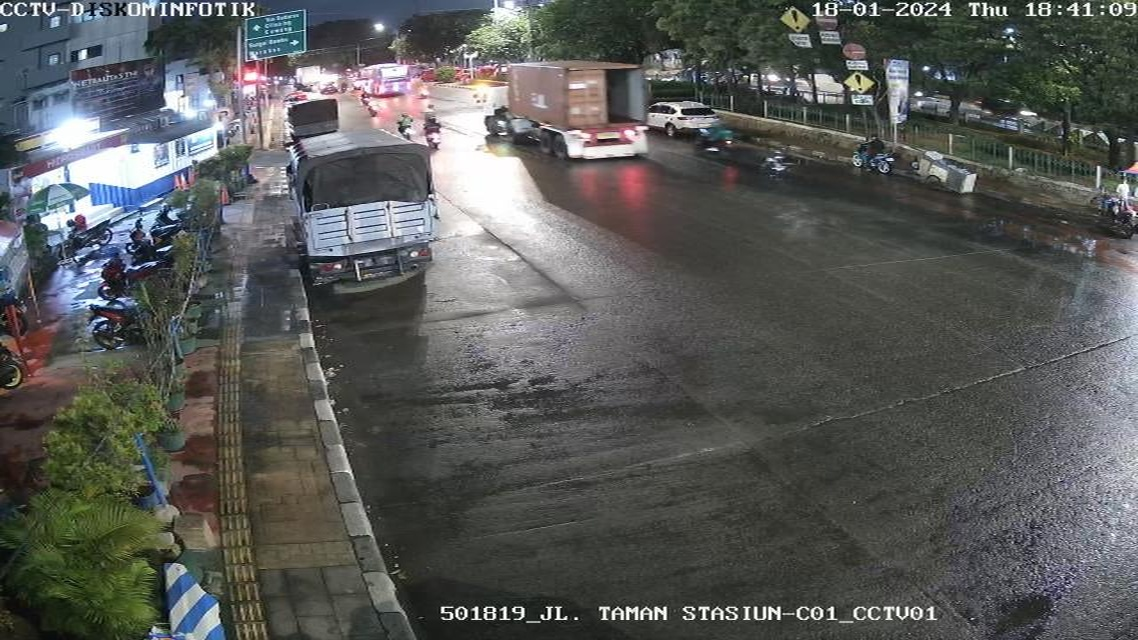Gerobak: (909, 147, 982, 194)
